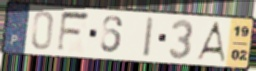0: (30, 10, 55, 51)
3: (167, 17, 195, 61)
6: (100, 14, 125, 55)
A: (194, 21, 227, 64)
F: (55, 10, 92, 54)
I: (142, 16, 156, 59)
